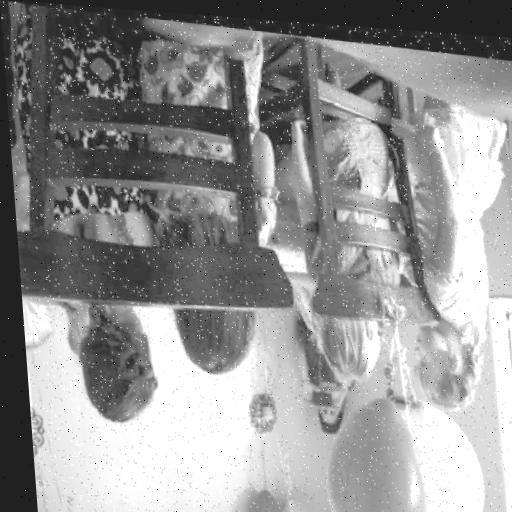balloon: (316, 377, 443, 512), (382, 378, 501, 512), (240, 480, 297, 512), (284, 485, 323, 512)
